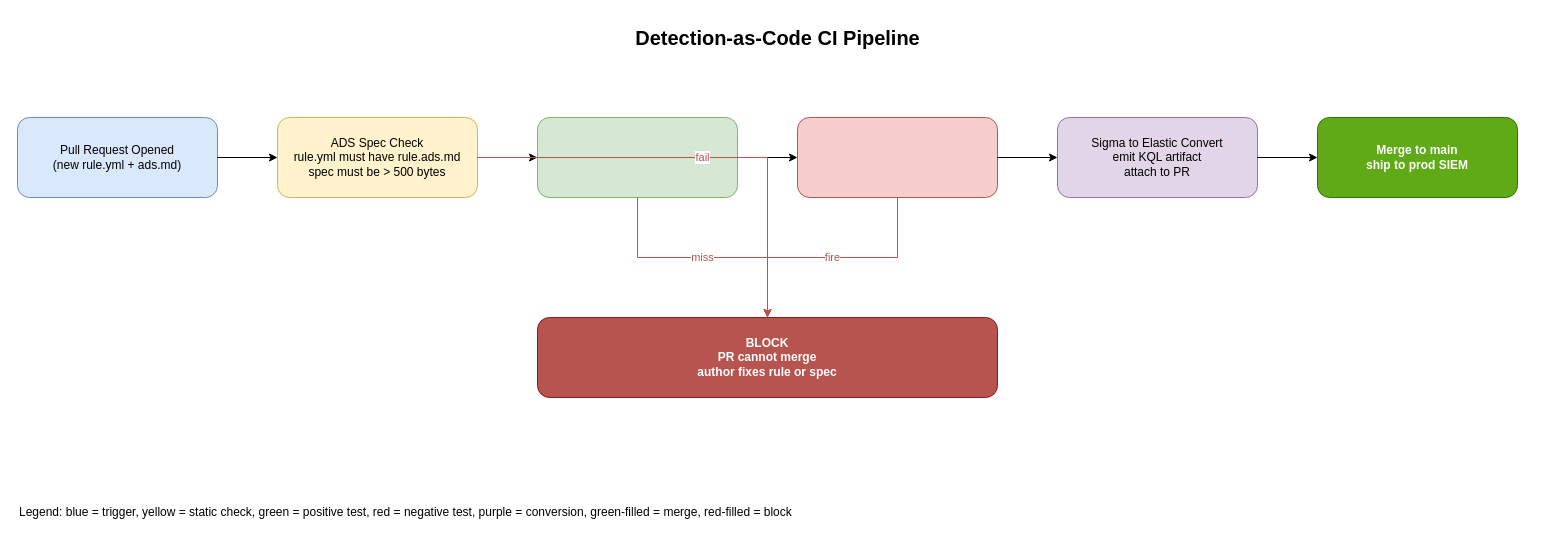
Some shapes in this 1555 by 544 pixel diagram are drawn without their labels. The shapes that lost their labels are listed below. From the top down, each one's box as (x1, y1, x2, y2) in pixels, then its label:
(536, 116, 738, 198): Atomic Red Team Test rule MUST match every positive event
(796, 116, 998, 198): Benign Test rule MUST match ZERO benign events
